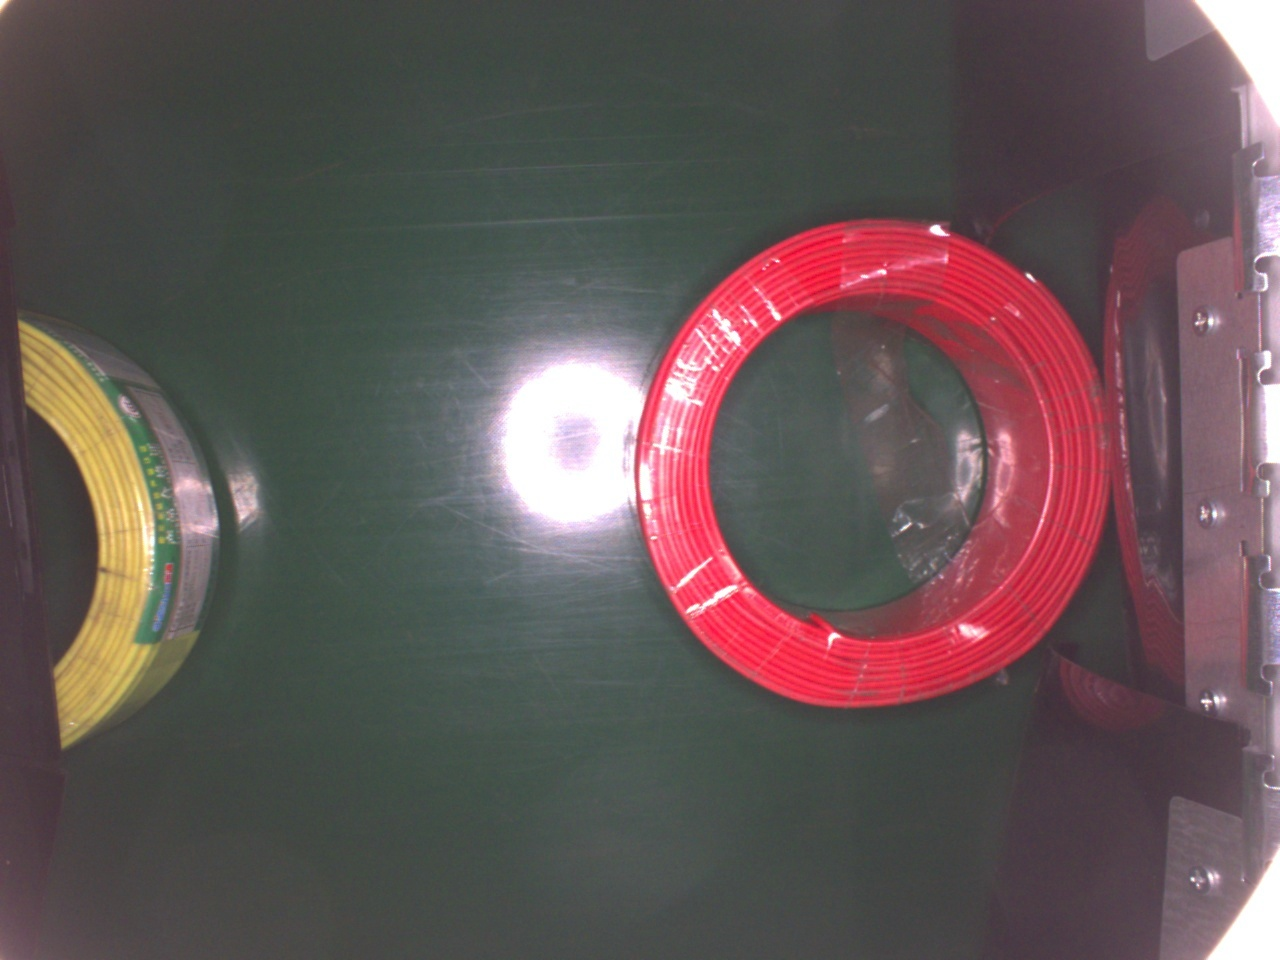red: (630, 214, 1109, 708)
yellow: (15, 303, 227, 750)
